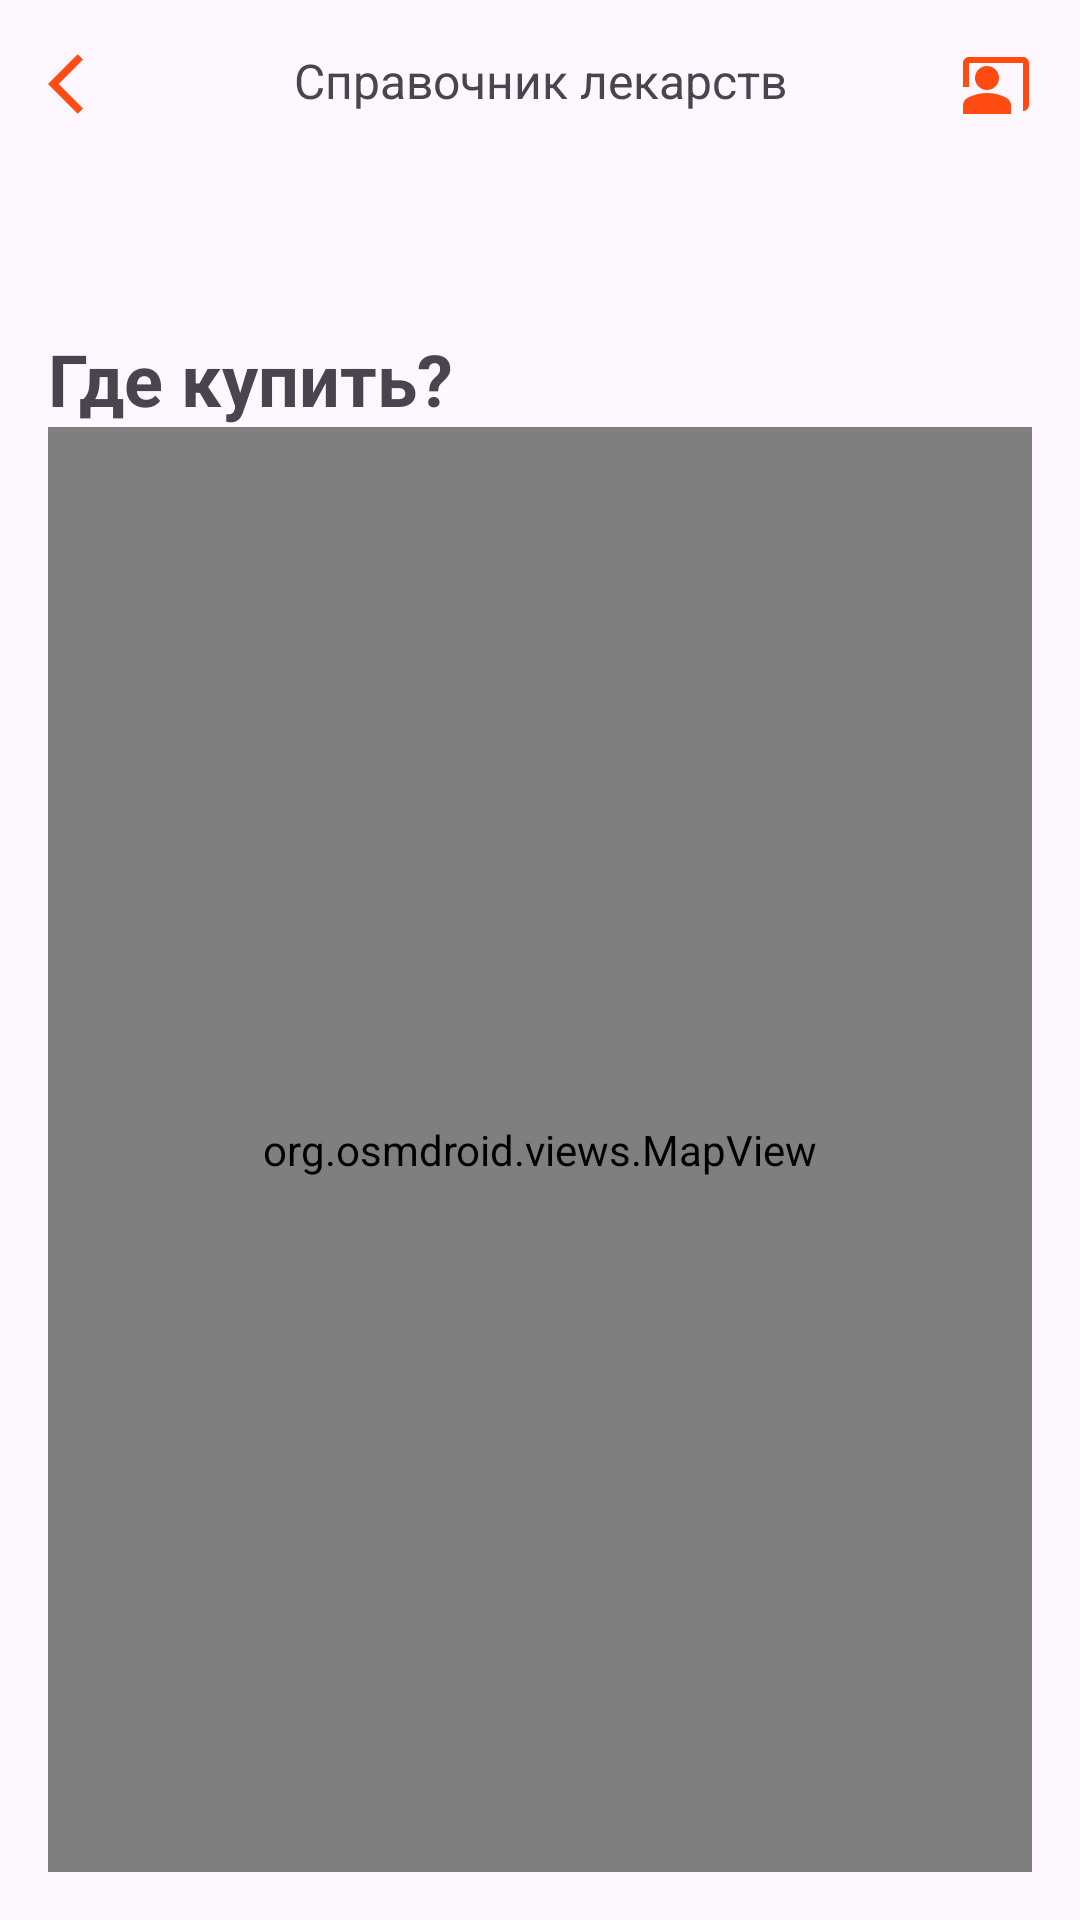

Icons on this 1080px x 1920px Android screen, each with the point to tap as (x=x, y=y):
Назад: (x=65, y=84)
Профиль: (x=996, y=85)
